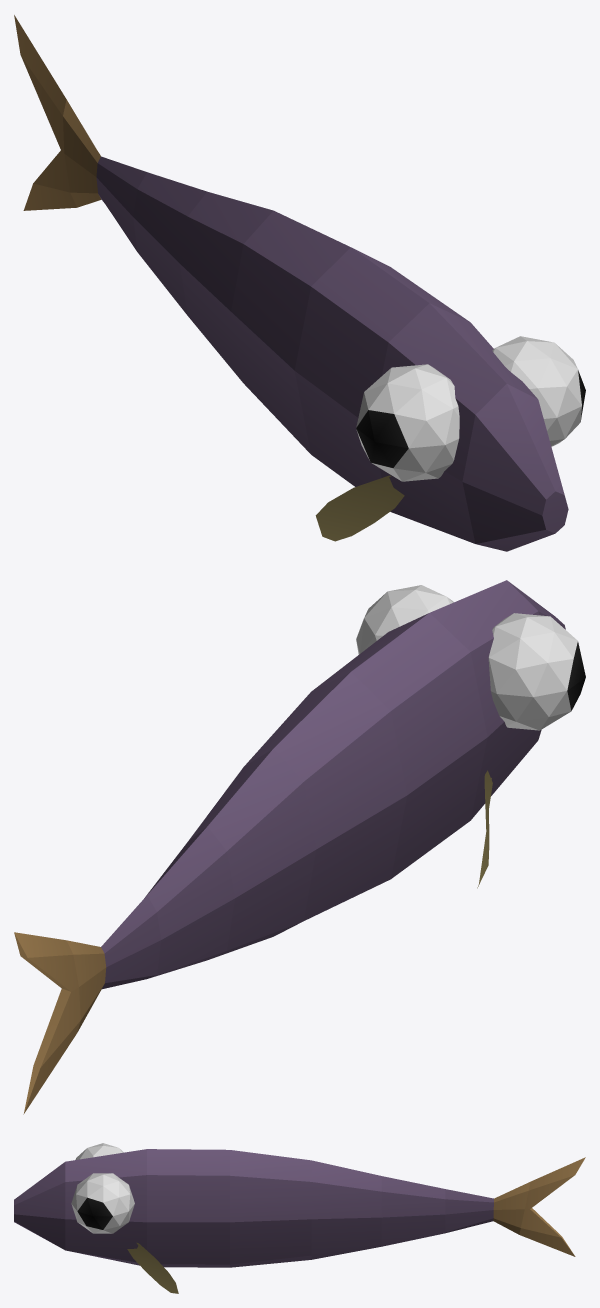
Rendered from pilchard.glb.
3 views of the same model, one above another, from view 1: azimuth 30°, elevation 25°; view 2: azimuth 150°, elevation 25°; view 3: azimuth 270°, elevation 25° (orthographic). The views are drawn at different scales.
Visible parts, largest first — view 1: pilchard_merged; view 2: pilchard_merged; view 3: pilchard_merged.
Part boxes in pixels (x1,y1,x2,y2): pilchard_merged: (14,15,585,551); pilchard_merged: (14,580,585,1114); pilchard_merged: (14,1143,585,1293).
Bounding box in the file's own units: 0.7554 × 0.8106 × 3.35.
4 materials, 4 textured.
